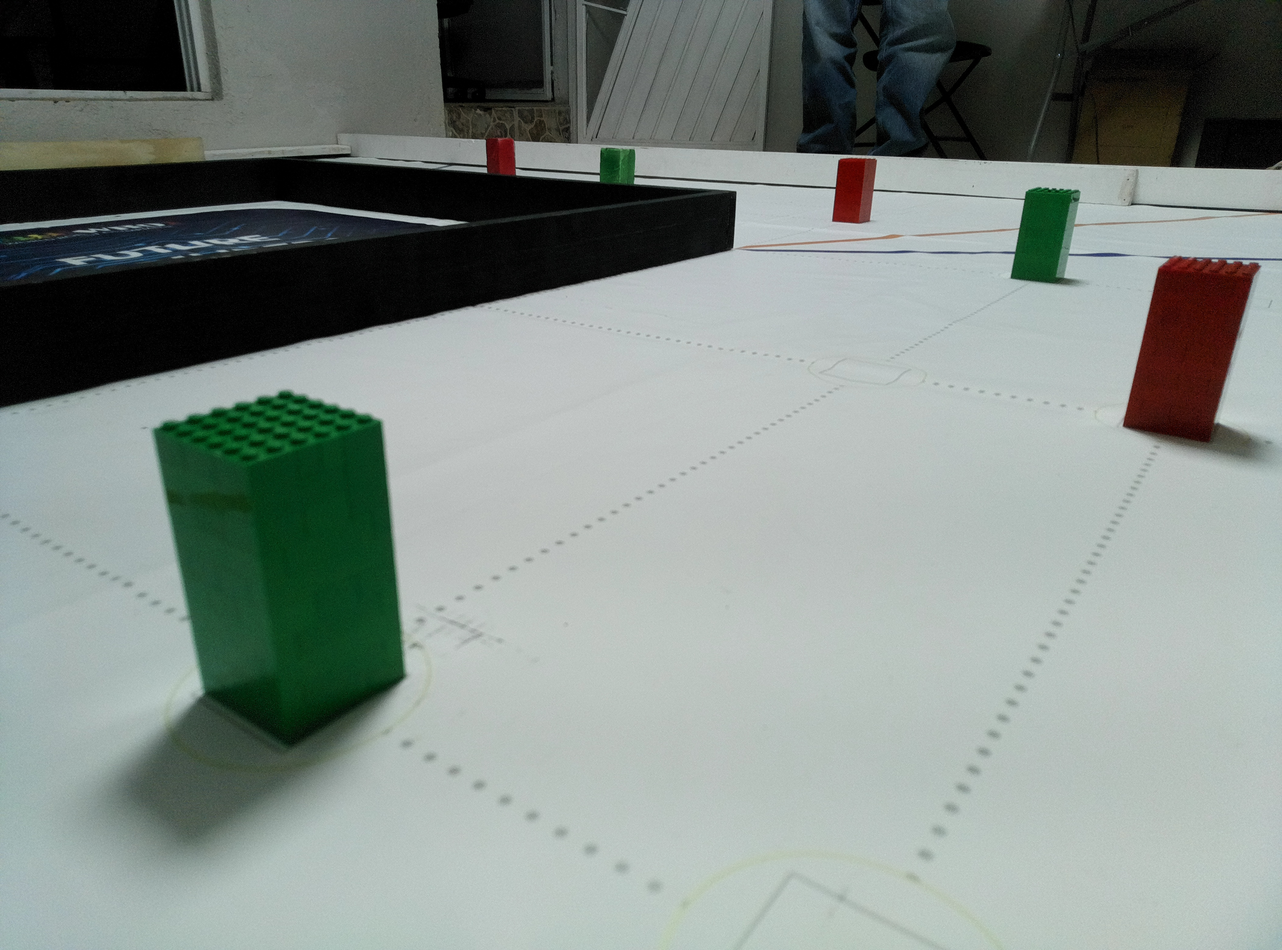greenbox: (150, 379, 409, 744), (1010, 183, 1082, 287), (598, 146, 637, 185)
redbox: (1121, 256, 1266, 442), (833, 156, 877, 224), (486, 137, 517, 176)
